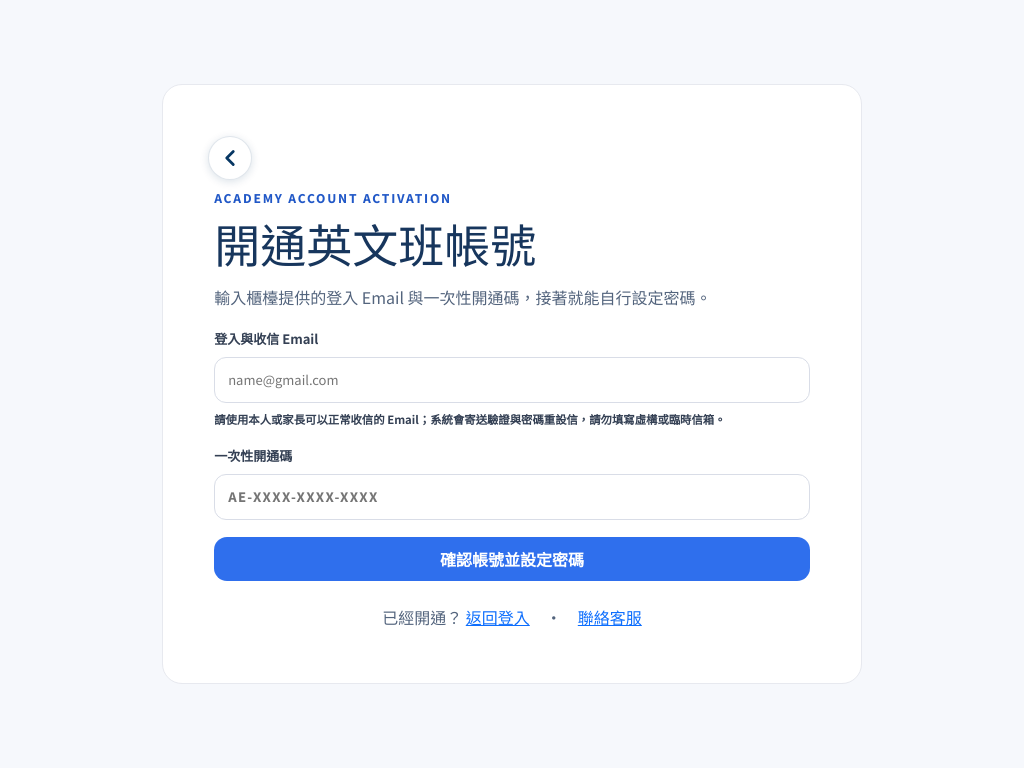
Scenario: AcademyInviteSignup manual activation › requires an account email and one-time activation code before password setup
Check: the heading "開通英文班帳號" is shown, box x1=214 y1=210 x2=536 y2=276
Type "student@gmail.com" into the field with placeholder "name@gmail.com".
click(512, 380); type("student@gmail.com")  # box x1=214 y1=357 x2=810 y2=403
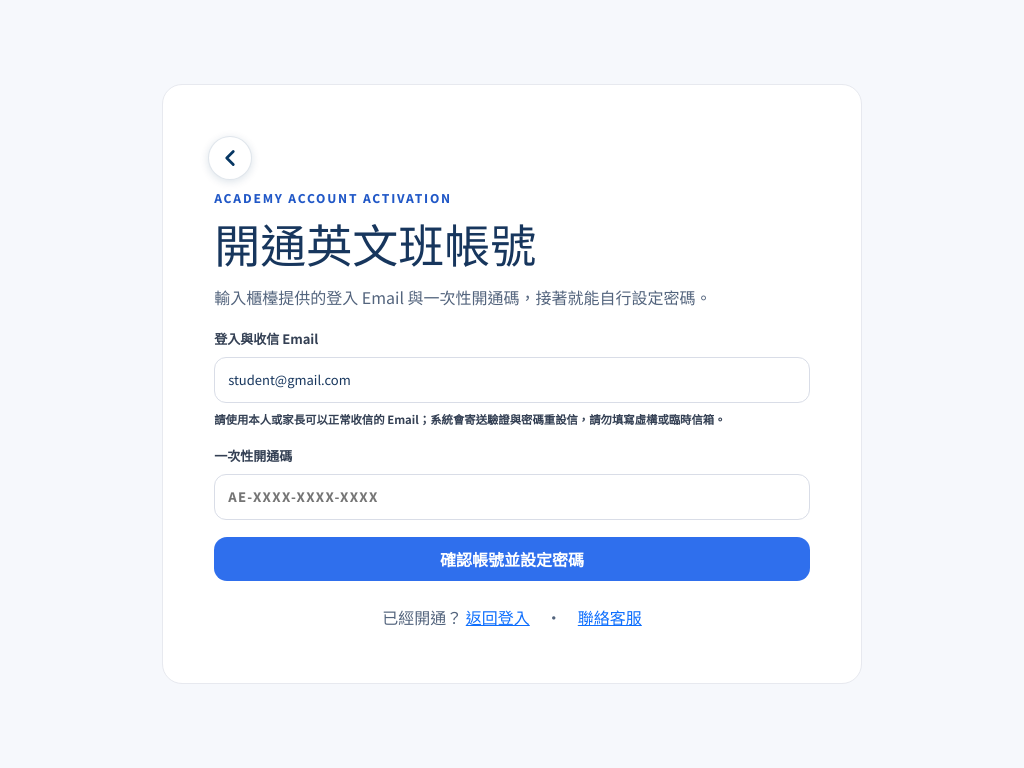
Type "ae-abcd-2345-wxyz" into the field with placeholder "AE-XXXX-XXXX-XXXX".
click(512, 497); type("ae-abcd-2345-wxyz")  # box x1=214 y1=474 x2=810 y2=520
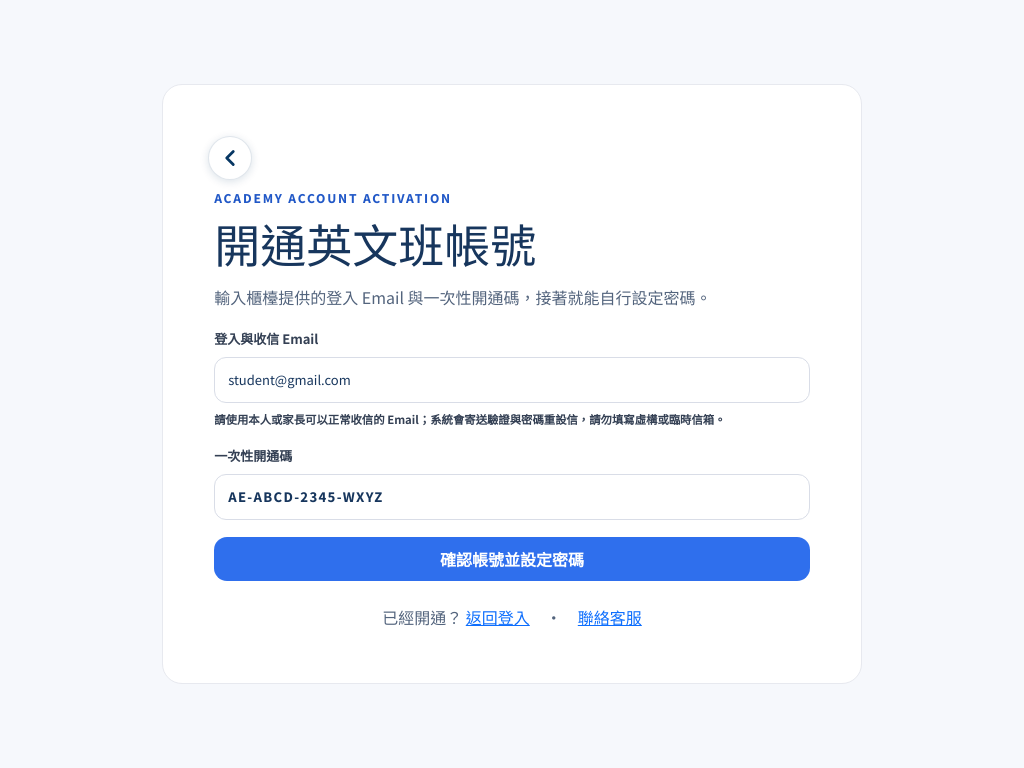
Click the button "確認帳號並設定密碼".
click(512, 559)  # box x1=214 y1=537 x2=810 y2=581
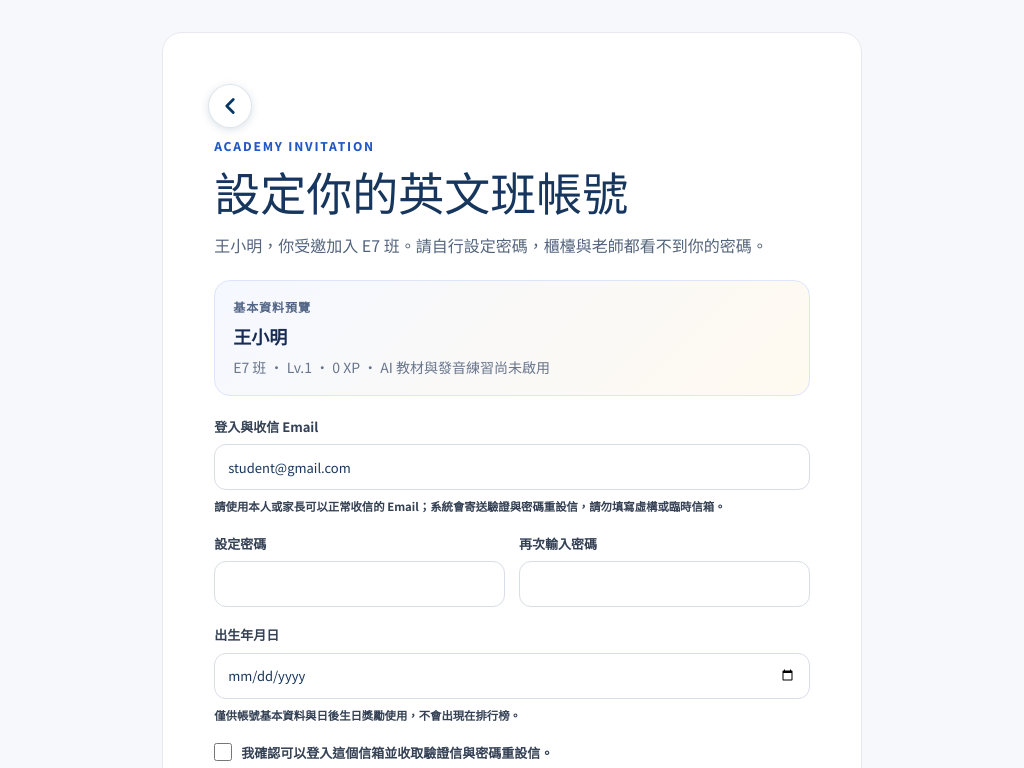
Check: the heading "設定你的英文班帳號" is shown, box x1=214 y1=158 x2=628 y2=224
Check: the text "王小明，你受邀加入 E7 班。請自行設定密碼，櫃檯與老師都看不到你的密碼。" is shown, box x1=214 y1=231 x2=810 y2=260
